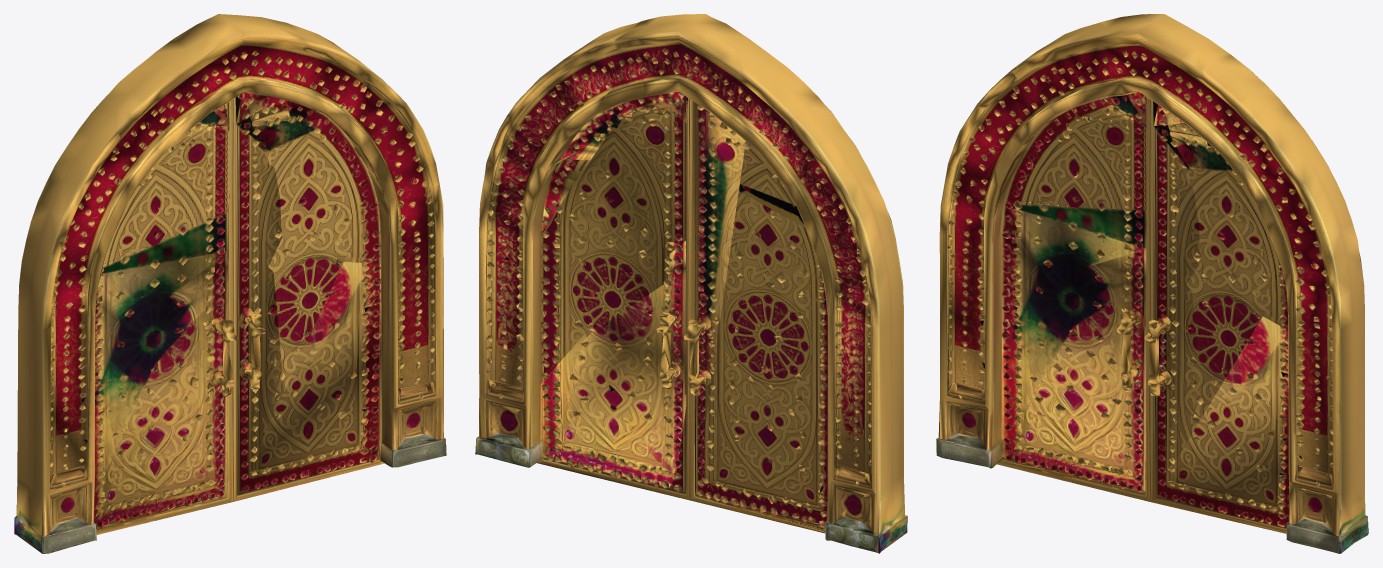
The model's file is Meshy_AI_Ruby_Studded_Golden_D_0721143335_texture.fbx.
3 renders of one model, left to right at view 1: azimuth 30°, elevation 25°; view 2: azimuth 150°, elevation 25°; view 3: azimuth 330°, elevation 25°, orthographic.
Parts seen in each view (by area): view 1: mesh_node; view 2: mesh_node; view 3: mesh_node.
Boxes of the visible parts, x1,y1,x2,y2 form: mesh_node: (14,14,446,553); mesh_node: (475,14,907,553); mesh_node: (936,14,1368,553).
Bounding box in the file's own units: 88.87 × 100 × 14.26.
1 material, 1 textured.
